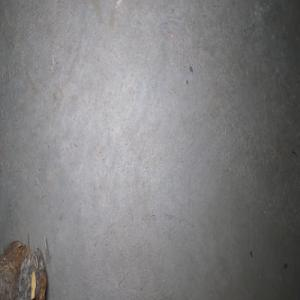Rock: (0, 233, 47, 300)
